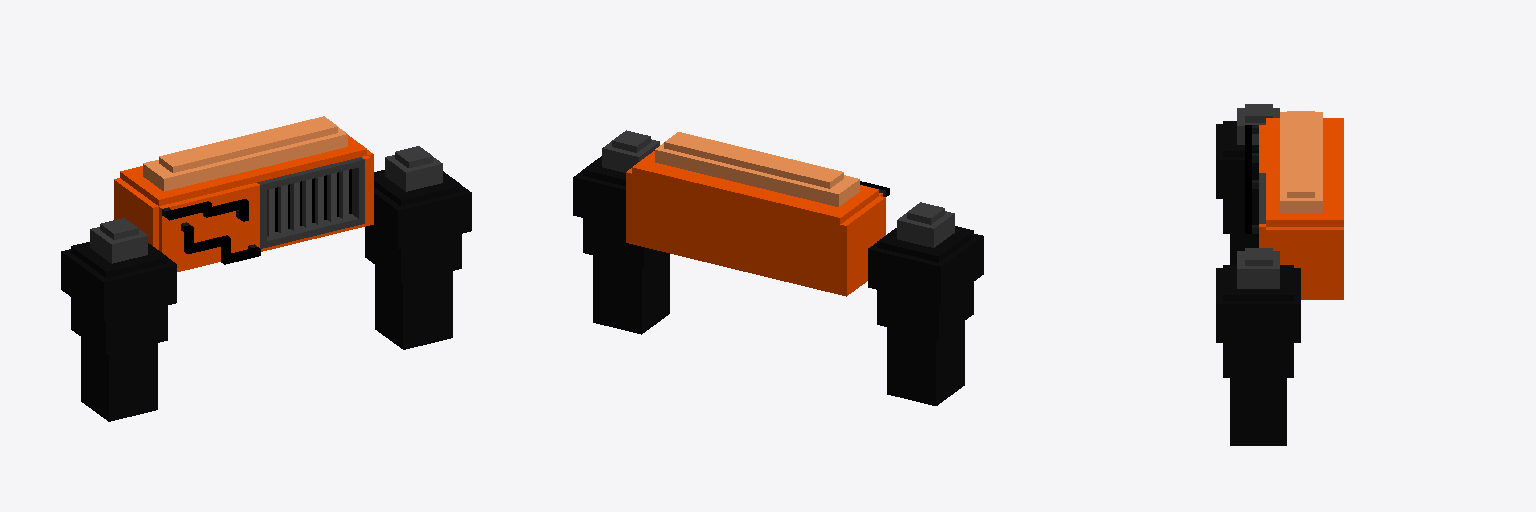
The picture shows the model from 3 angles: view 1: azimuth 30°, elevation 25°; view 2: azimuth 150°, elevation 25°; view 3: azimuth 270°, elevation 25°; orthographic projection.
Parts seen in each view (by area): view 1: object 1; view 2: object 1; view 3: object 1.
Part boxes in pixels (left/top/right/bottom): object 1: left=61, top=116, right=471, bottom=421; object 1: left=573, top=130, right=983, bottom=405; object 1: left=1216, top=104, right=1343, bottom=445.
Size of the model in its own units: 6 by 3.3 by 1.8.
1 materials, 1 textured.